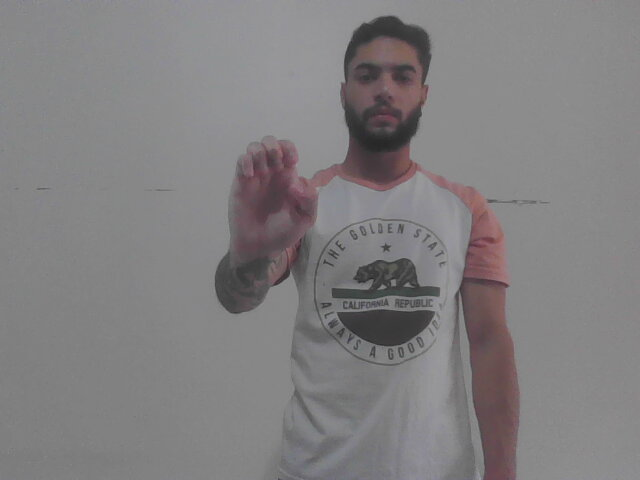e: (223, 133, 319, 259)
